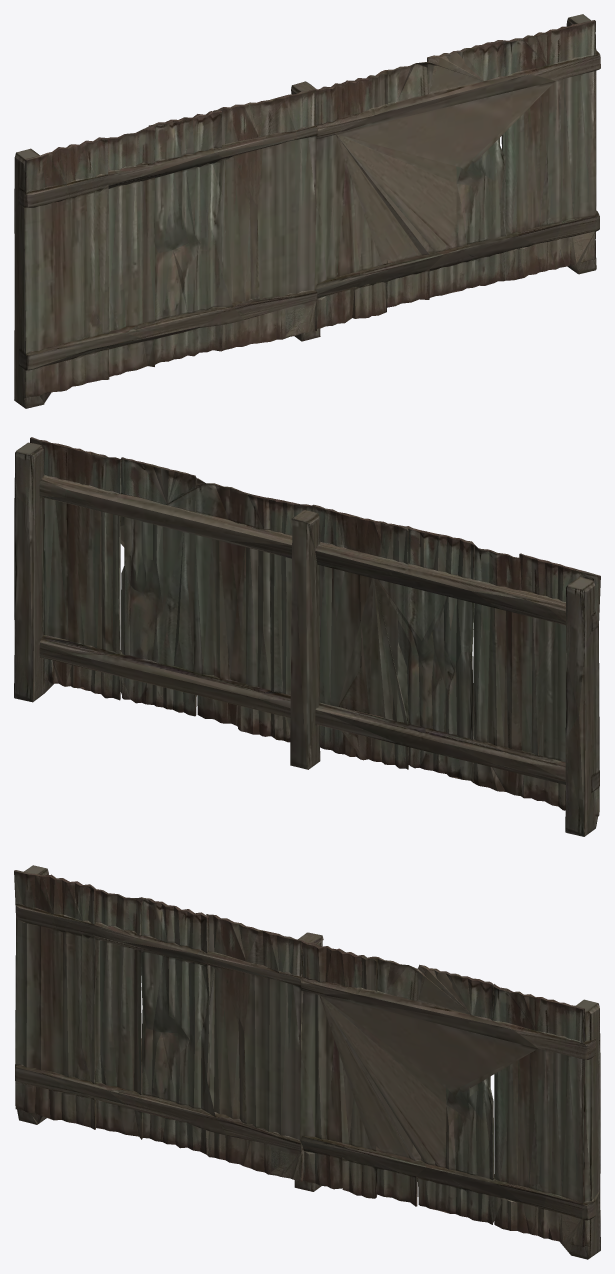
Rendered from colorbond_fence.glb.
3 views of the same model, one above another, from view 1: azimuth 30°, elevation 25°; view 2: azimuth 150°, elevation 25°; view 3: azimuth 330°, elevation 25° (orthographic).
Bounding box in the file's own units: 1.9 × 0.8063 × 0.1022.
1 material, 1 textured.
